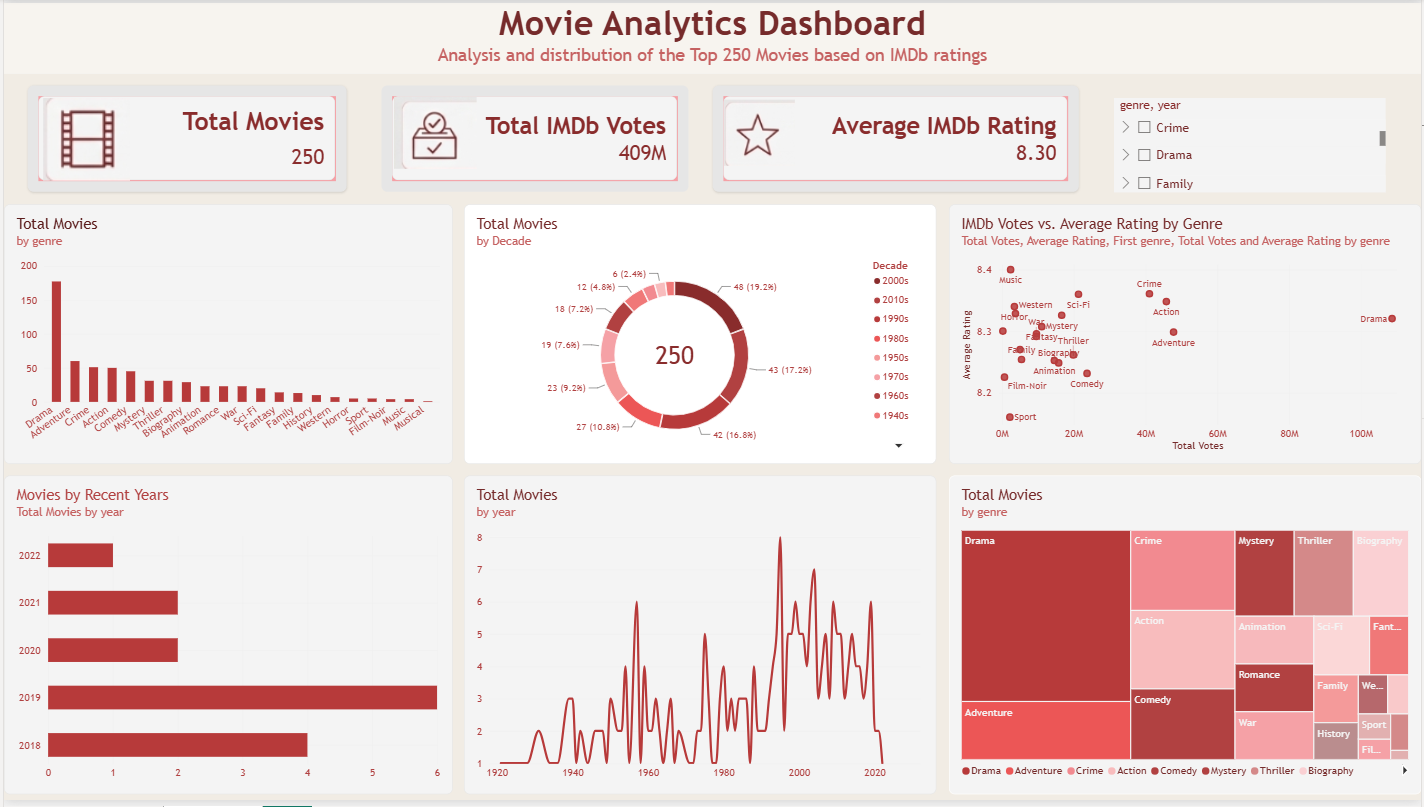

This screenshot's page, from the dashboard's own definition file:
{"tool":"powerbi","page":{"name":"movies","canvas":[1920,1080],"ordinal":0},"visuals":[{"type":"clusteredColumnChart","fields":{"Category":["movies.genre"],"Y":["movies.Total Movies"]},"box":[0,272,608,352],"z":0},{"type":"slicer","fields":{"Values":["movies.genre","movies.year"]},"box":[1504,128,368,128],"z":1000},{"type":"cardVisual","fields":{"Data":["movies.Total Movies"]},"box":[32,112,432,144],"z":2000},{"type":"donutChart","fields":{"Category":["movies.Decade"],"Y":["movies.Total Movies"]},"box":[624,272,640,352],"z":3000},{"type":"treemap","fields":{"Group":["movies.genre"],"Values":["movies.Total Movies"]},"box":[1280,640,640,432],"z":4000},{"type":"scatterChart","title":"IMDb Votes vs. Average Rating by Genre","fields":{"Category":["movies.genre"],"X":["movies.Total Votes"],"Y":["movies.Average Rating"]},"box":[1280,272,640,352],"z":5000},{"type":"cardVisual","fields":{"Data":["Sum(movies.imbd_votes)"]},"box":[512,112,416,144],"z":6000},{"type":"cardVisual","fields":{"Data":["Avg(movies.imbd_rating)"]},"box":[960,112,496,144],"z":7000},{"type":"lineChart","fields":{"Category":["movies.year"],"Y":["movies.Total Movies"]},"box":[624,640,640,432],"z":8000},{"type":"clusteredBarChart","title":"Movies by Recent Years","fields":{"Category":["movies.year"],"Y":["movies.Total Movies"]},"box":[0,640,608,432],"z":9000},{"type":"shape","box":[0,0,1920,96],"z":10000},{"type":"textbox","title":" Movie Analytics Dashboard","box":[0,0,1920,96],"z":11000},{"type":"image","box":[48,128,128,112],"z":11001},{"type":"image","box":[528,112,112,128],"z":11002},{"type":"image","box":[976,112,96,128],"z":11003}]}

Visuals, with their boxes in screenshot pixels (x1, y1, x2, y2), scaled from the page's 1920x1080 canvas onto the 1424x807 screenshot:
clusteredColumnChart - movies.genre x movies.Total Movies: bbox=(0, 203, 451, 466)
slicer - movies.genre x movies.year: bbox=(1115, 96, 1388, 191)
cardVisual - movies.Total Movies: bbox=(24, 84, 344, 191)
donutChart - movies.Decade x movies.Total Movies: bbox=(463, 203, 937, 466)
treemap - movies.genre x movies.Total Movies: bbox=(949, 478, 1423, 801)
"IMDb Votes vs. Average Rating by Genre" scatterChart: bbox=(949, 203, 1423, 466)
cardVisual - Sum(movies.imbd_votes): bbox=(380, 84, 688, 191)
cardVisual - Avg(movies.imbd_rating): bbox=(712, 84, 1080, 191)
lineChart - movies.year x movies.Total Movies: bbox=(463, 478, 937, 801)
"Movies by Recent Years" clusteredBarChart: bbox=(0, 478, 451, 801)
shape: bbox=(0, 0, 1423, 72)
" Movie Analytics Dashboard" textbox: bbox=(0, 0, 1423, 72)
image: bbox=(36, 96, 131, 179)
image: bbox=(392, 84, 475, 179)
image: bbox=(724, 84, 795, 179)
